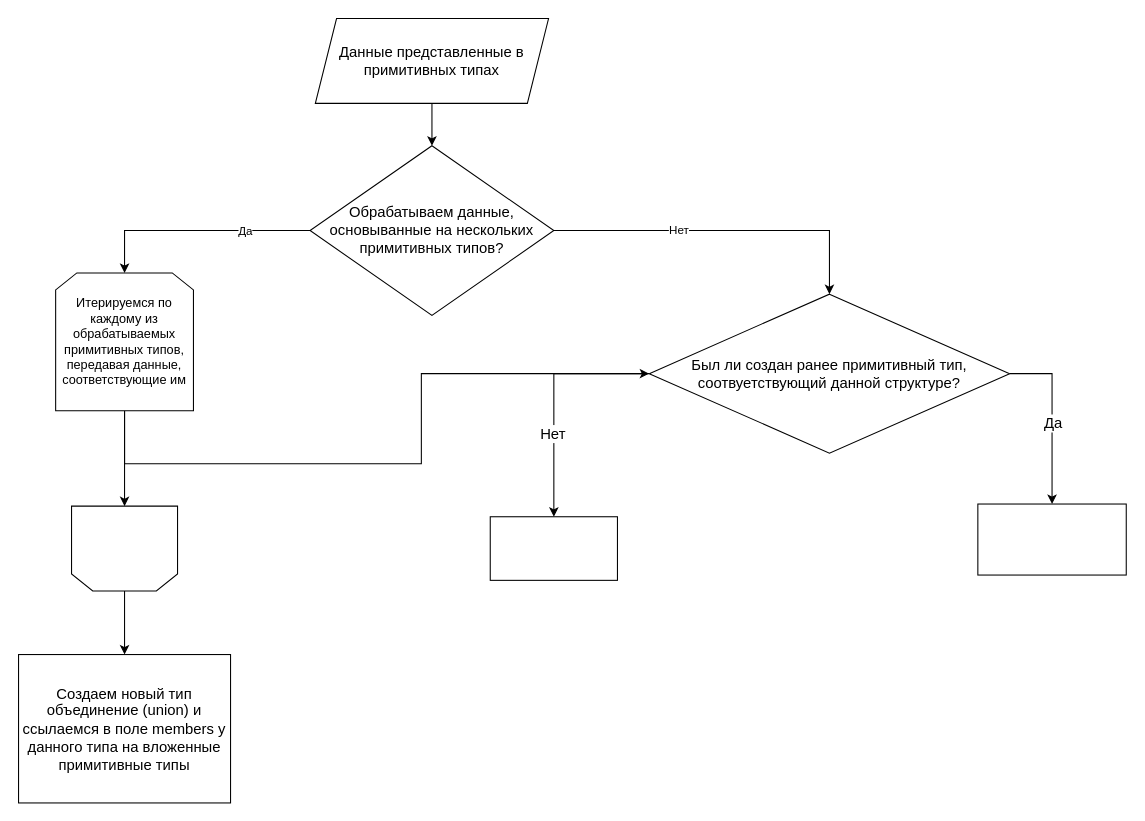
The diagram is 1145 pixels wide and 821 high, and some of its shapes have lost their labels. Here are the shapes that lost their labels. From the top down, the centre of each, then its label:
point (124, 548): Окончание обработки примитивных типов
point (553, 548): Создаем примитивный тип
point (1051, 539): Используем созданый ранее примитивный тип
